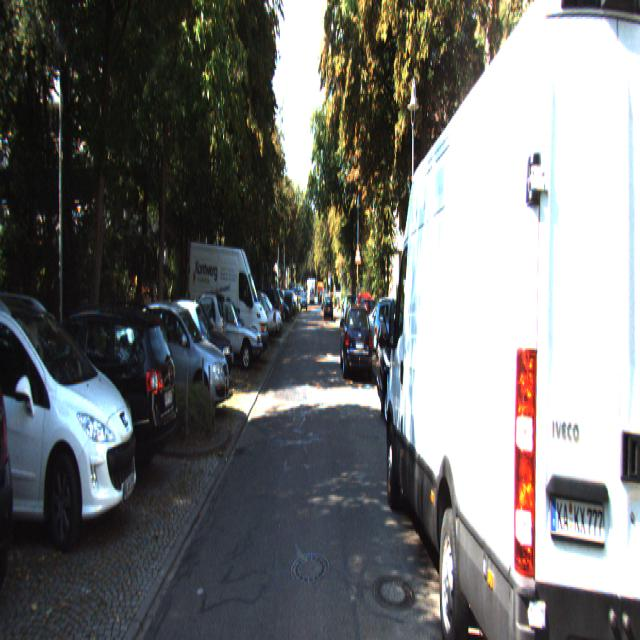Car: (384, 0, 639, 639), (0, 282, 139, 558), (0, 297, 180, 493), (120, 289, 231, 416), (187, 239, 269, 370), (195, 294, 264, 371), (373, 298, 418, 362), (341, 302, 373, 381)
